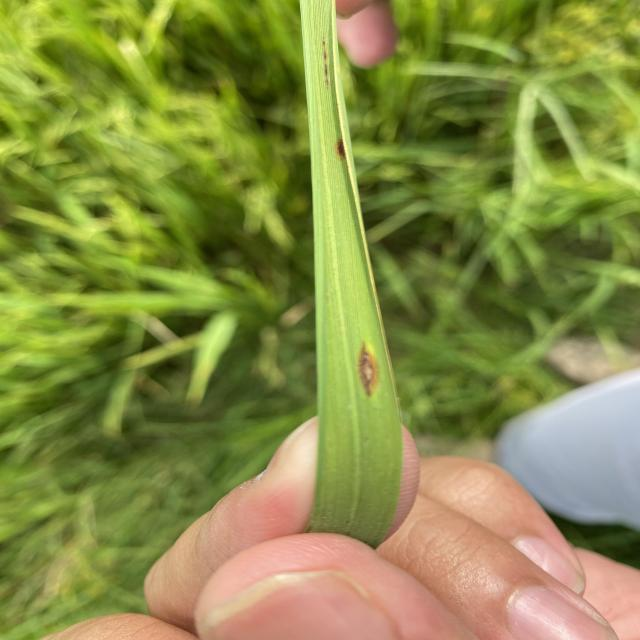Dom nau: (356, 342, 380, 400), (334, 138, 346, 161)
